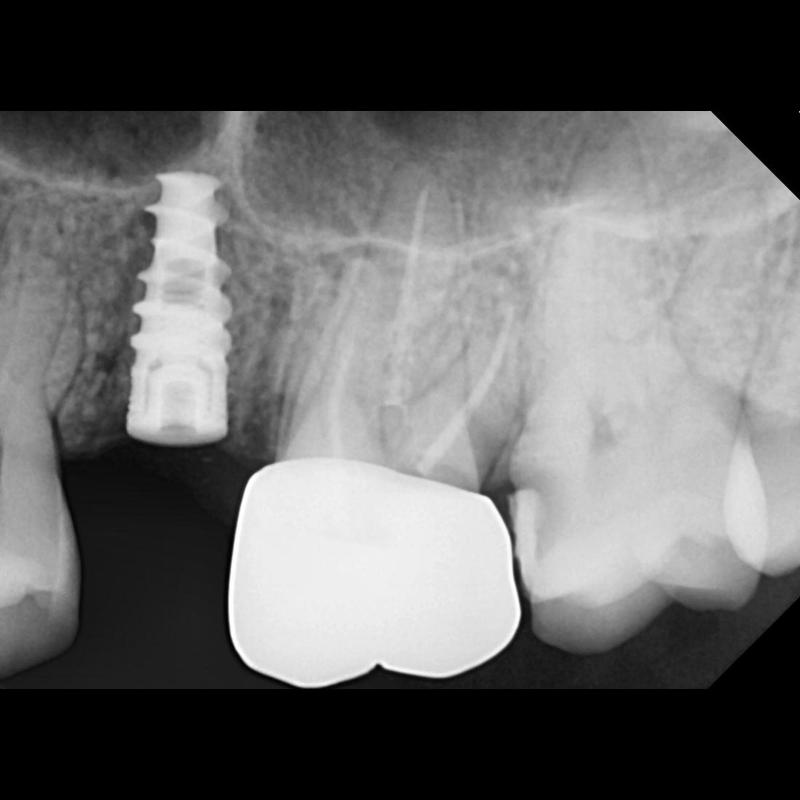NORIS: (119, 167, 237, 447)
